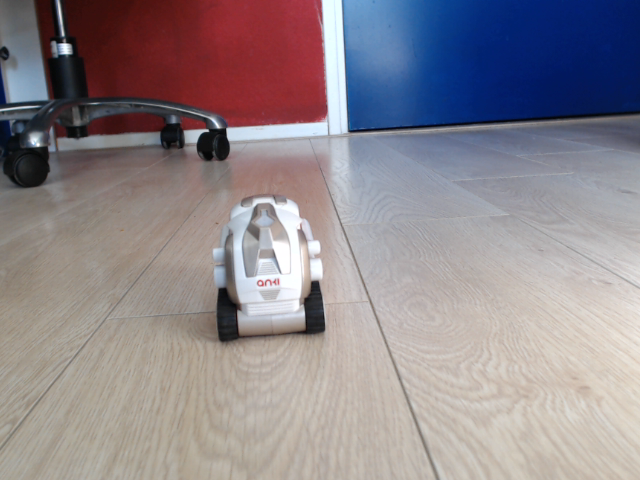cozmo: (208, 191, 330, 348)
